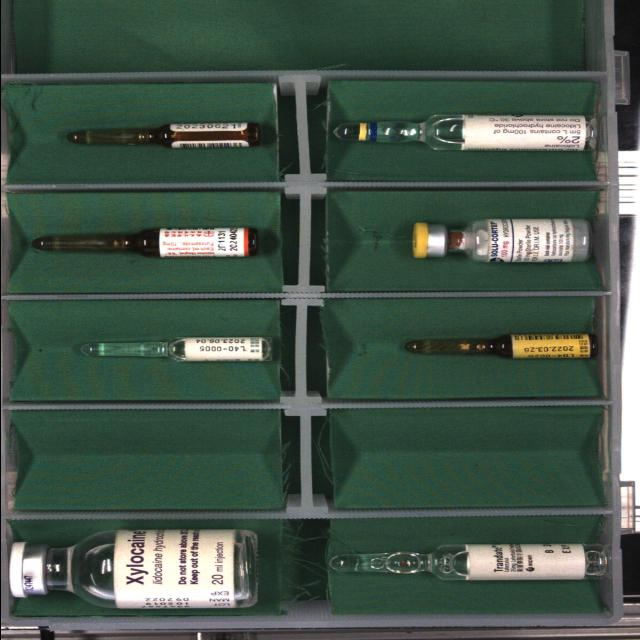Vials: (9, 529, 256, 609), (412, 219, 589, 262)
